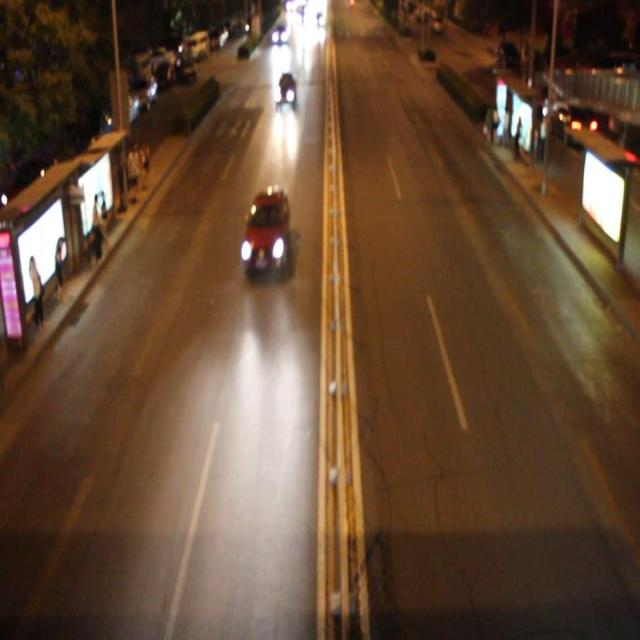car: (241, 186, 290, 270), (273, 67, 297, 105)
